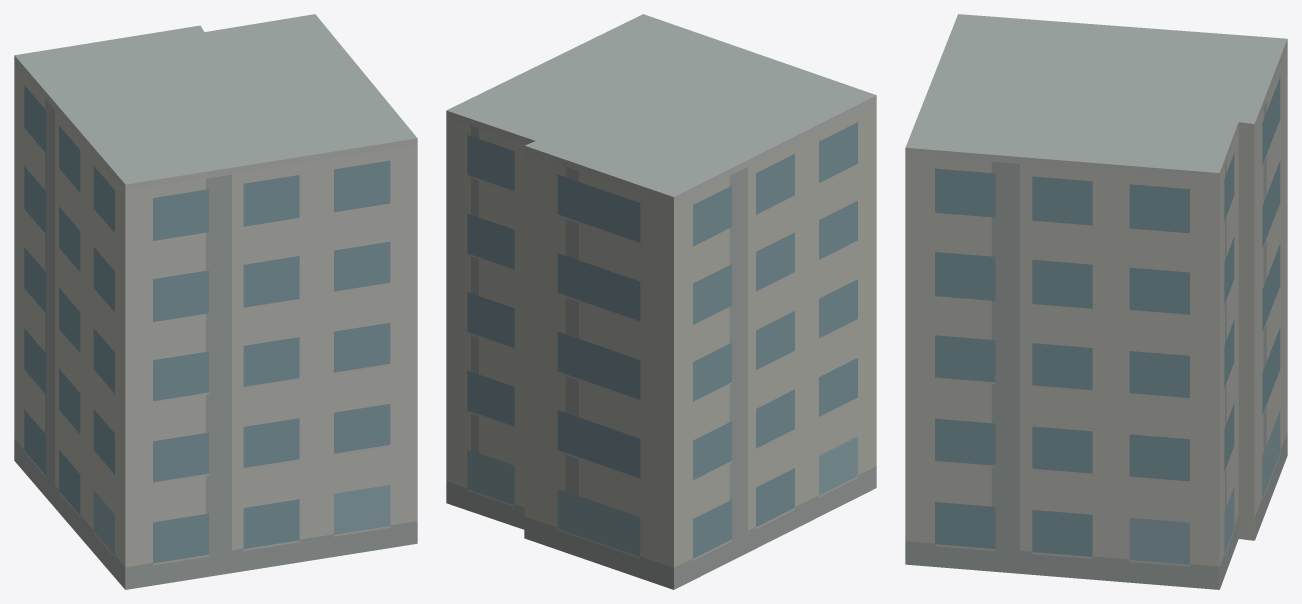
File: survey-upis-32824854.glb
The picture shows the model from 3 angles, left to right: view 1: azimuth 30°, elevation 25°; view 2: azimuth 150°, elevation 25°; view 3: azimuth 270°, elevation 25°; orthographic projection. The views are drawn at different scales.
Parts seen in each view (by area): view 1: survey-upis-32824854.tmp; view 2: survey-upis-32824854.tmp; view 3: survey-upis-32824854.tmp.
Boxes of the visible parts, <box> form: survey-upis-32824854.tmp: <box>14,14,417,589</box>; survey-upis-32824854.tmp: <box>446,14,876,589</box>; survey-upis-32824854.tmp: <box>905,14,1287,589</box>.
Bounding box in the file's own units: 11.72 × 14.3 × 11.89.
